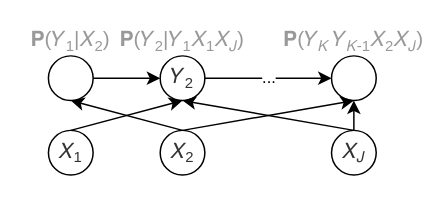
Image size: 448x201. Some labels were removed from this diagram. Each missing label, with the box of its shape:
𝑌 1: (47, 54, 93, 101)
𝑌 𝐾: (330, 54, 376, 101)
